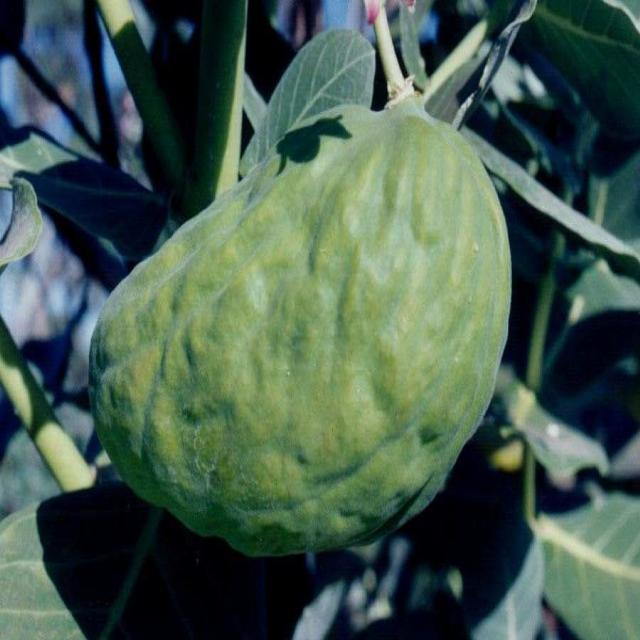Poisonous-Calatropis: (90, 95, 516, 563)
